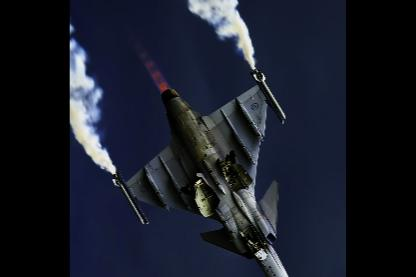JAS39: (112, 68, 306, 276)
